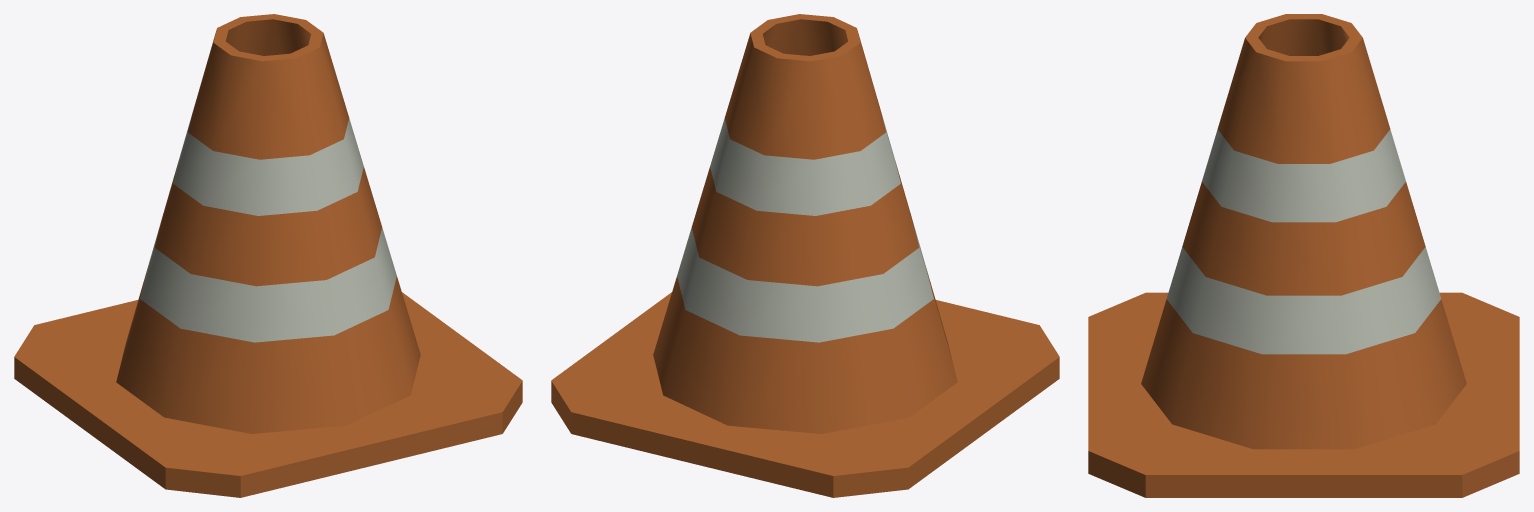
3 renders of one model, left to right at view 1: azimuth 30°, elevation 25°; view 2: azimuth 150°, elevation 25°; view 3: azimuth 270°, elevation 25°, orthographic. The views are drawn at different scales.
Parts seen in each view (by area): view 1: TrafficCone; view 2: TrafficCone; view 3: TrafficCone.
Part boxes in pixels (left/top/right/bottom): TrafficCone: left=14, top=14, right=522, bottom=497; TrafficCone: left=551, top=14, right=1059, bottom=497; TrafficCone: left=1088, top=14, right=1519, bottom=497.
Size of the model in its own units: 0.6746 by 0.6367 by 0.6746.
